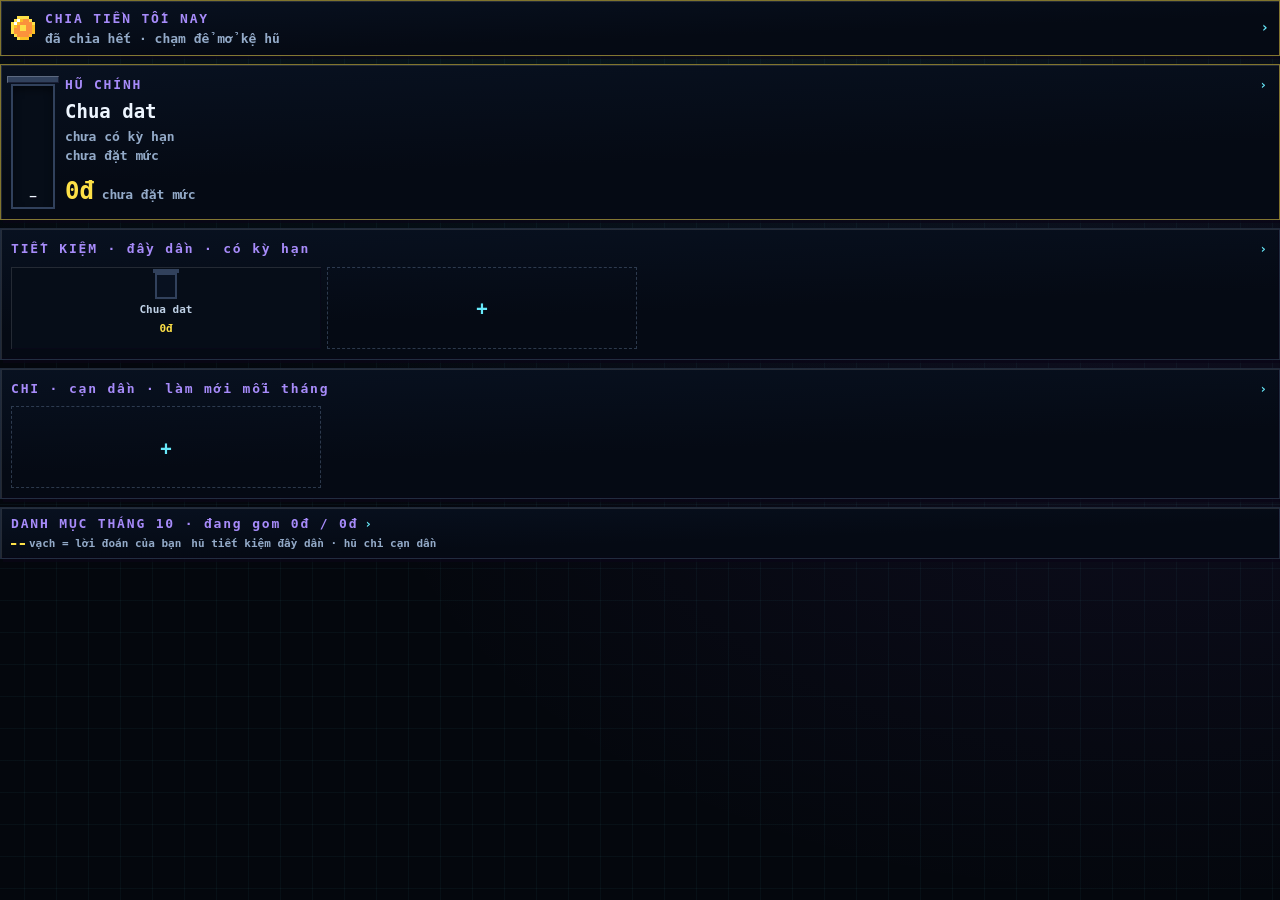
Test: §III — ⭐⭐ Chưa đặt mức: hiện "—", KHÔNG BAO GIỜ hiện "0%" › ⭐⭐ hũ chưa đặt mức
Check: the text "—" is shown, box [30,190,36,203]
Click the button with aria-label "HŨ CHÍNH: Chua dat" at (640, 142), box [0,64,1279,220]
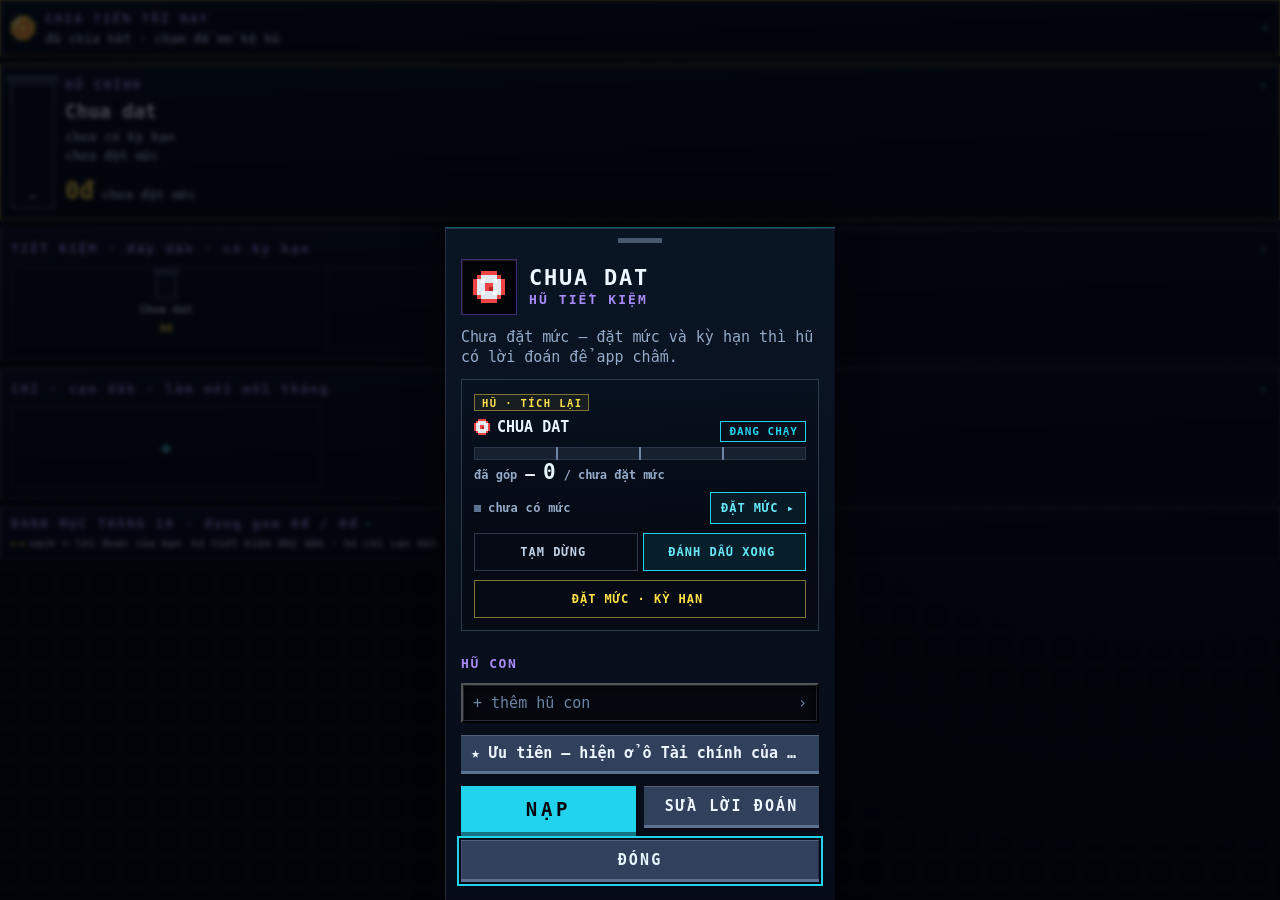
Check: the text "—" is shown, box [525,464,535,483]
